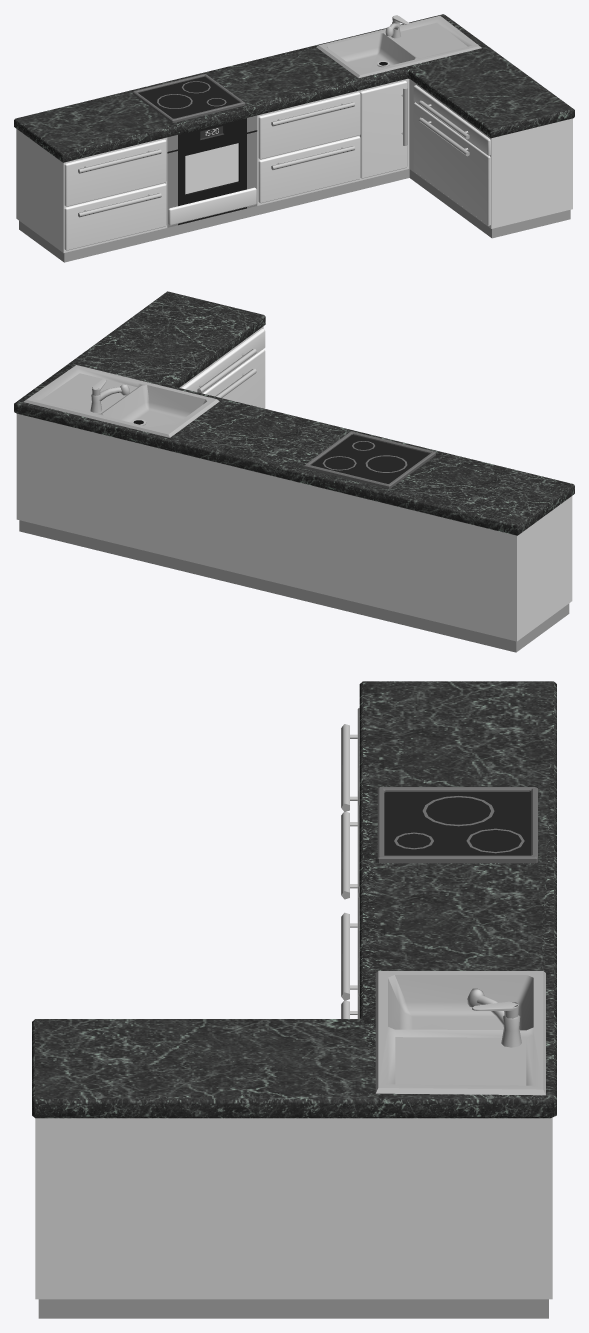
File: kitchen_032.fbx
The picture shows the model from 3 angles, top to bottom: view 1: azimuth 30°, elevation 25°; view 2: azimuth 150°, elevation 25°; view 3: azimuth 270°, elevation 25°; orthographic projection. The views are drawn at different scales.
Parts seen in each view (by area): view 1: kitchen_032; view 2: kitchen_032; view 3: kitchen_032.
Boxes of the visible parts, x1,y1,x2,y2 form: kitchen_032: (14,14,574,262); kitchen_032: (14,291,574,652); kitchen_032: (32,681,556,1318).
Bounding box in the file's own units: 446 × 235 × 128.
